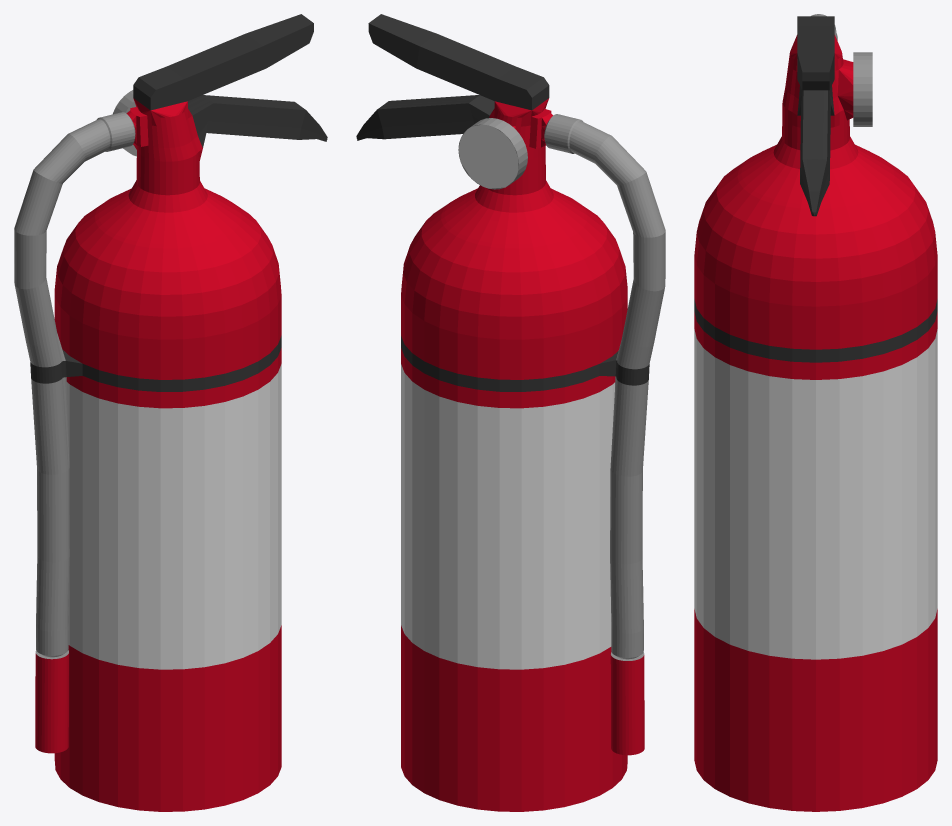
File: FireExt.fbx
The picture shows the model from 3 angles, left to right: view 1: azimuth 30°, elevation 25°; view 2: azimuth 150°, elevation 25°; view 3: azimuth 270°, elevation 25°; orthographic projection. The views are drawn at different scales.
Visible parts, largest first — view 1: Sphere; view 2: Sphere; view 3: Sphere.
Boxes of the visible parts, <box> form: Sphere: <box>14,14,327,811</box>; Sphere: <box>356,14,665,811</box>; Sphere: <box>694,14,937,811</box>.
Size of the model in its own units: 404 by 889 by 258.
